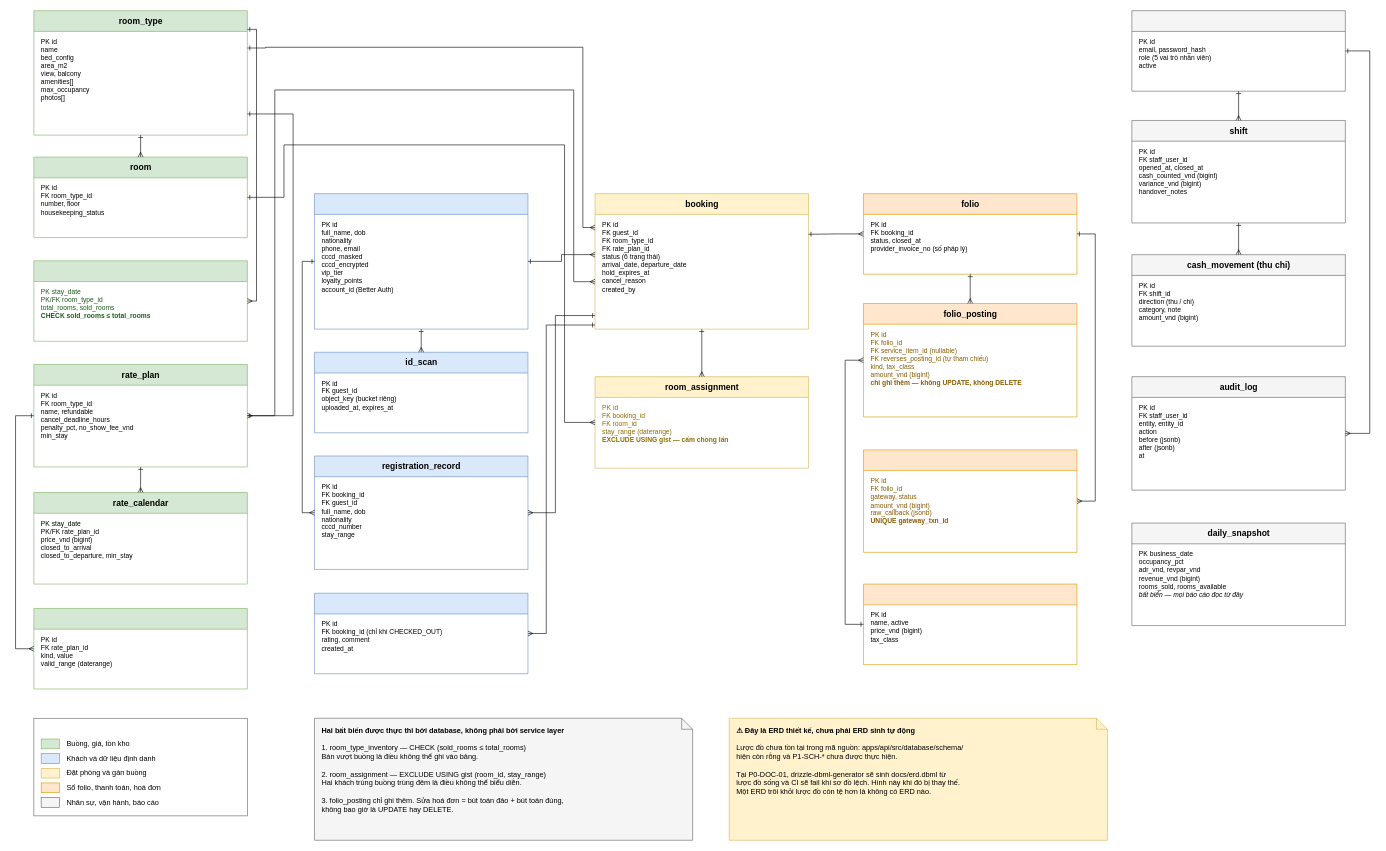
The diagram is 1386 pixels wide and 851 high, and some of its shapes have lost their labels. Here are the shapes that lost their labels. From the top down, the box of each, then its label:
(1131, 10, 1345, 91): staff_user
(314, 193, 528, 329): guest
(33, 260, 247, 341): room_type_inventory
(863, 449, 1077, 552): payment
(314, 593, 528, 674): feedback
(863, 583, 1077, 665): service_item
(33, 608, 247, 689): promotion
(33, 718, 247, 816): Chú giải
